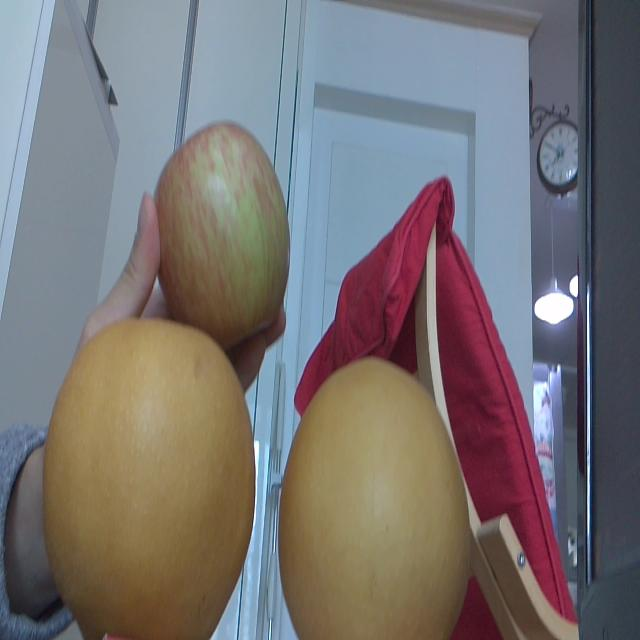apple: (151, 120, 290, 344)
pear: (40, 321, 257, 640), (280, 354, 470, 640)
